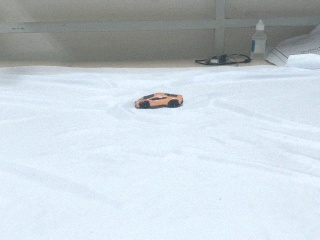bottle: (251, 20, 267, 59)
toy_car: (134, 91, 184, 109)
